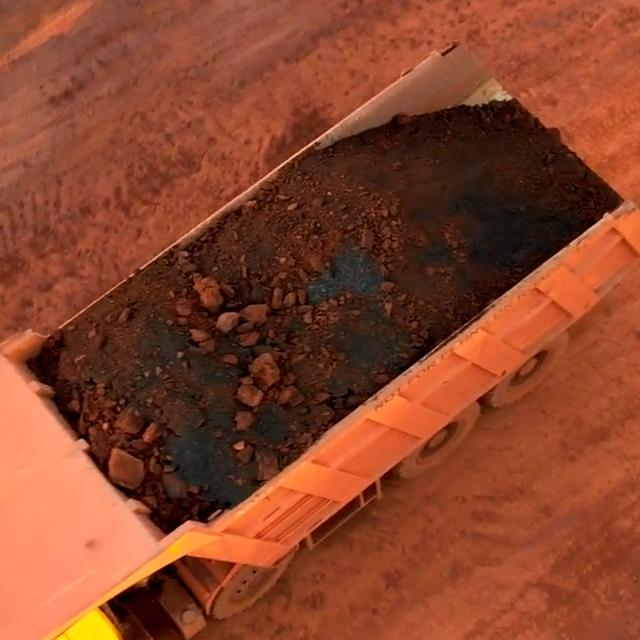Dumper truck: (263, 189, 575, 418), (0, 469, 184, 640)
